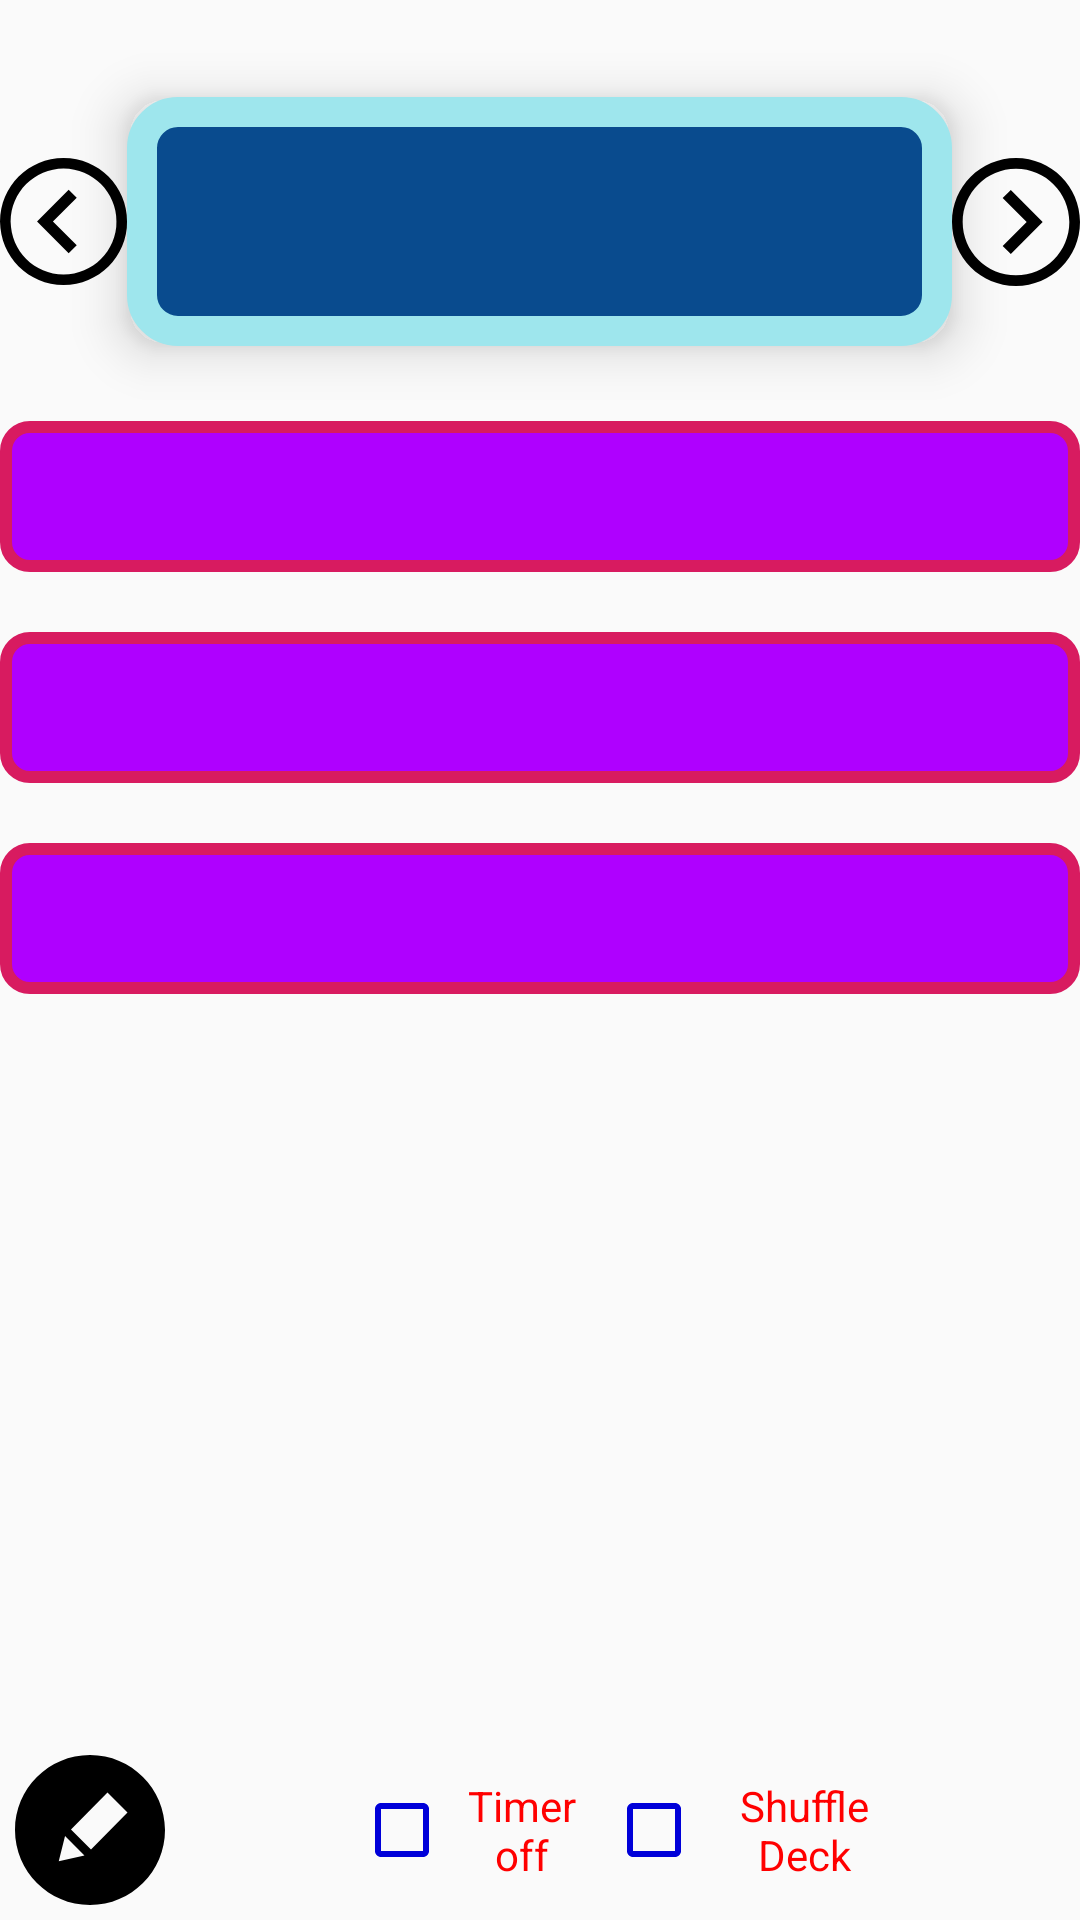

Locate icon controls on the screen. Image size 1080w x 1920h, boxes as (x1, y1, x2, y2).
edit: (15, 1755, 165, 1905)
